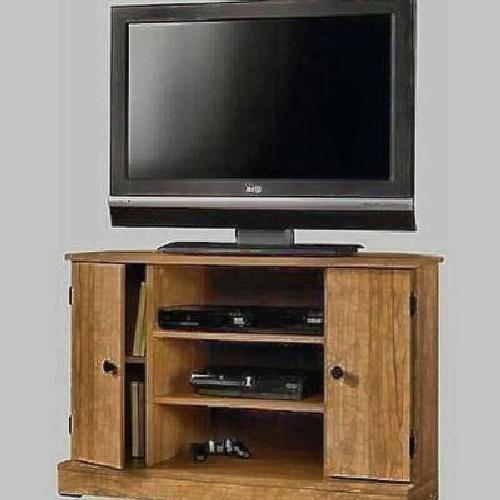cabinet: (60, 240, 447, 481)
